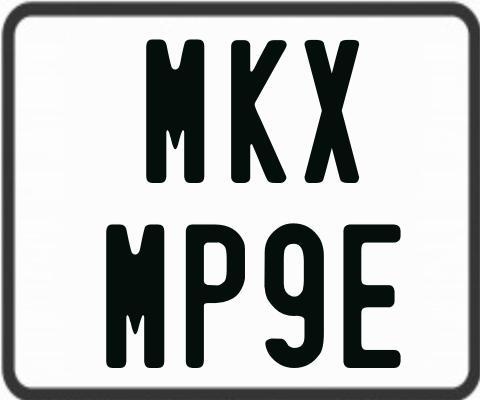9: (263, 222, 326, 367)
E: (342, 223, 404, 368)
K: (230, 38, 289, 187)
M: (106, 222, 169, 371), (143, 39, 204, 184)
P: (183, 222, 243, 366)
X: (305, 37, 364, 184)
